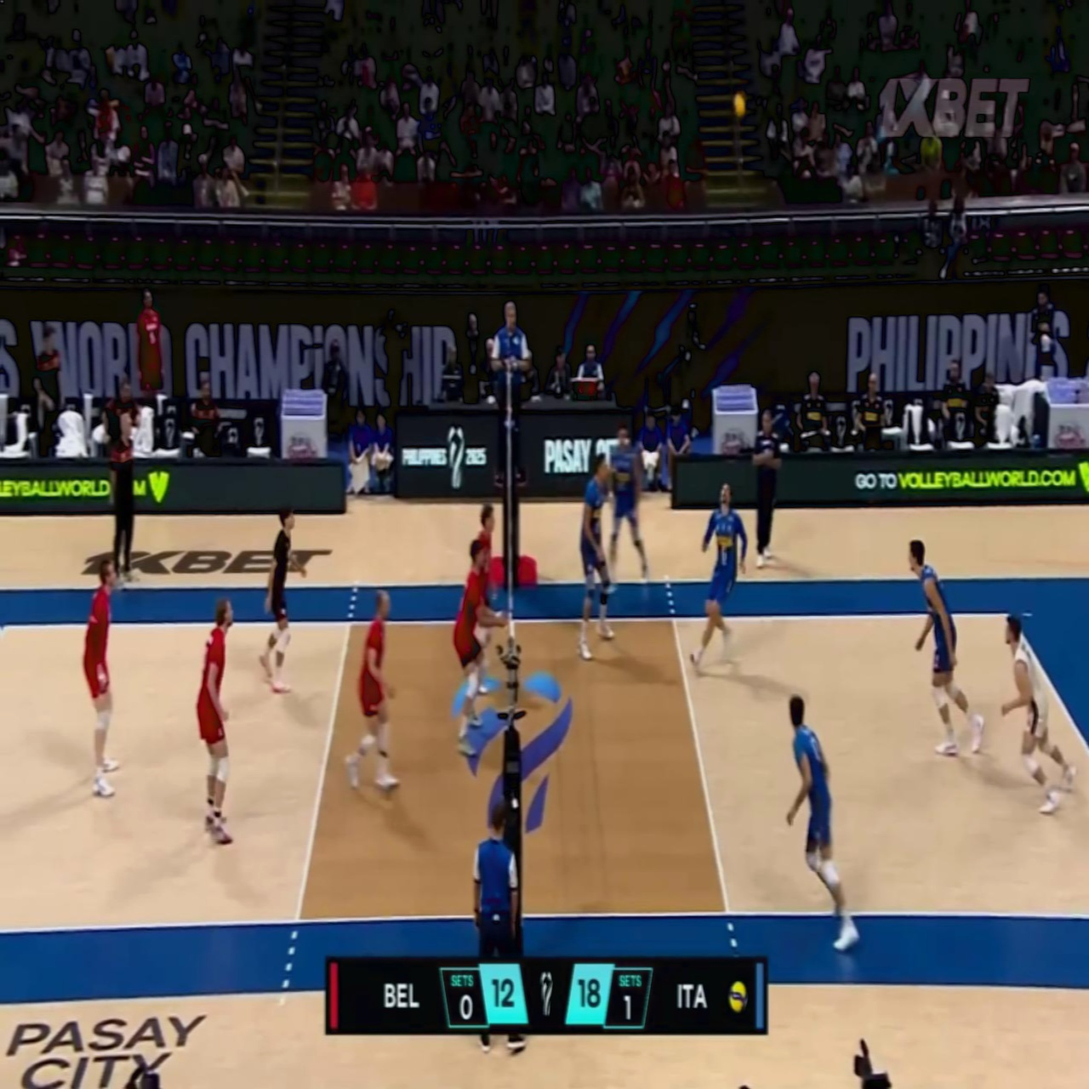ball: (732, 92, 745, 116)
